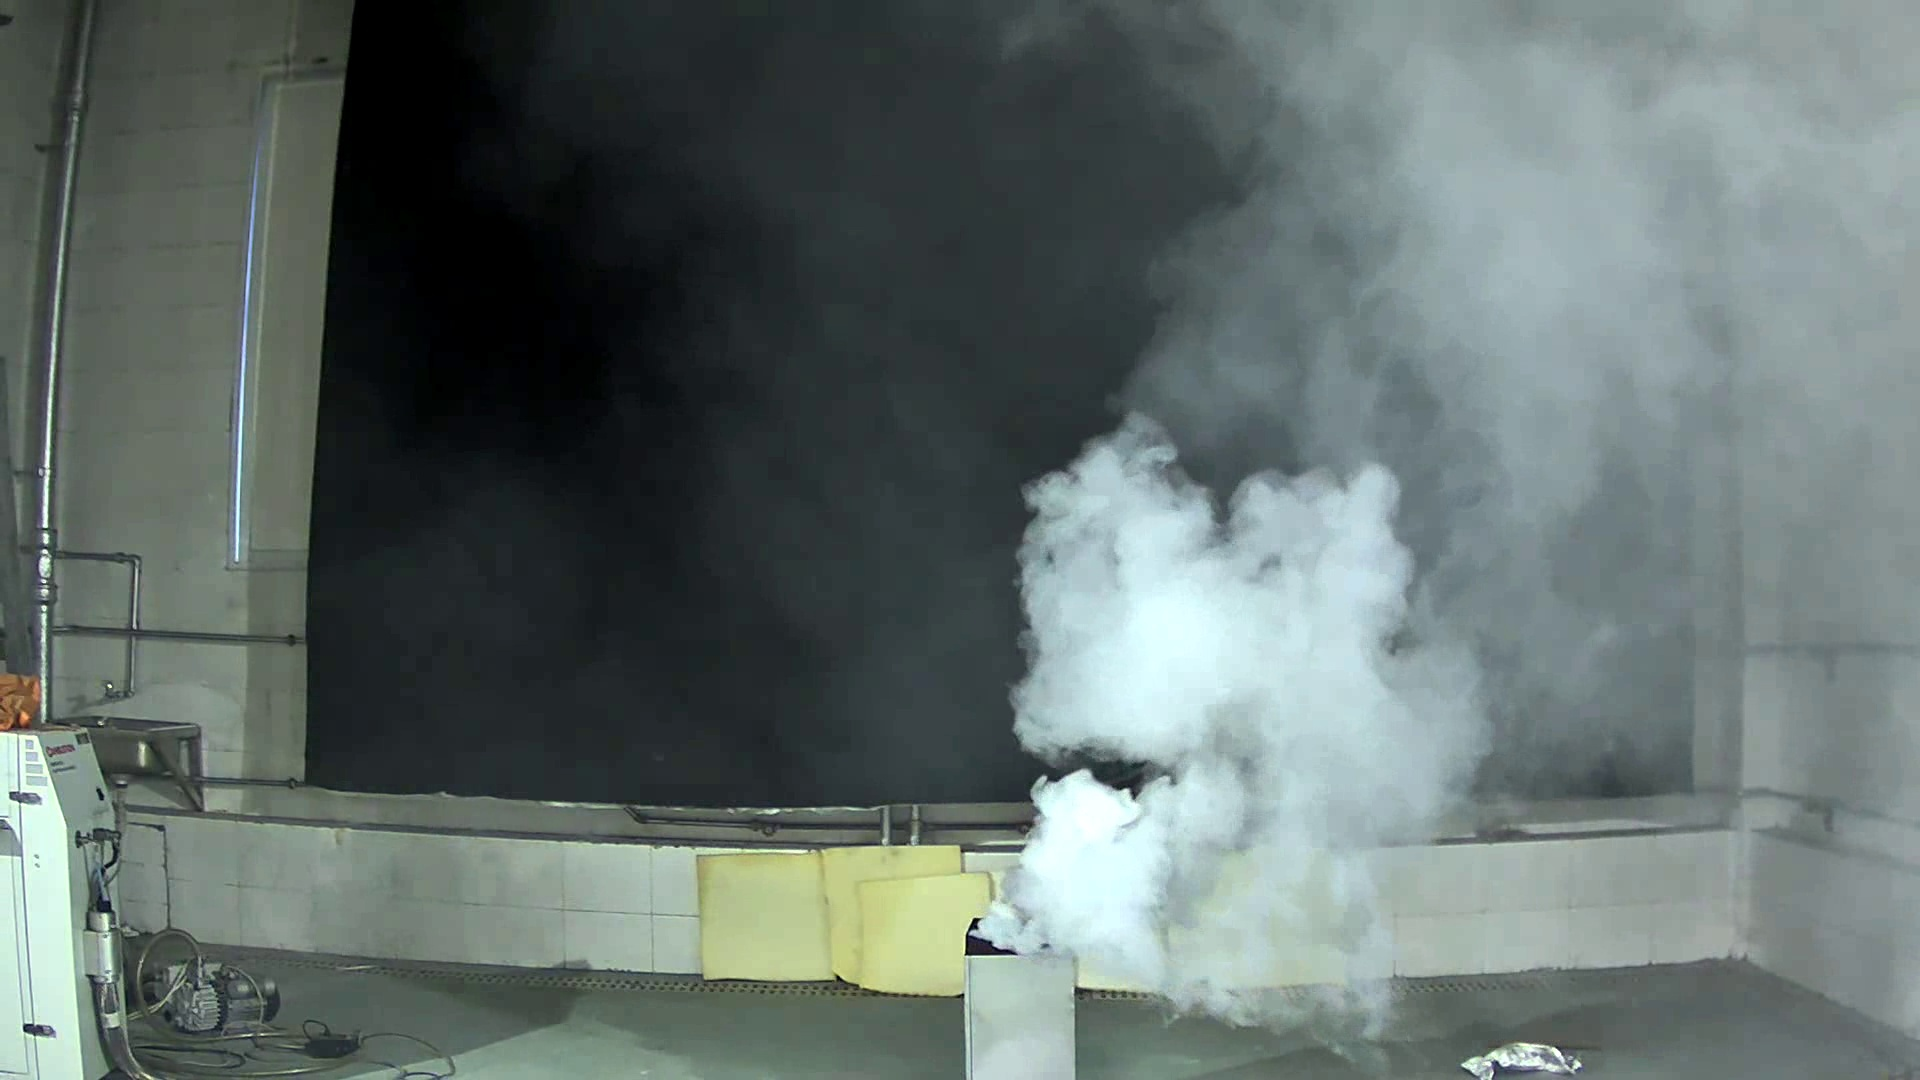smoke: (963, 429, 1461, 1009)
